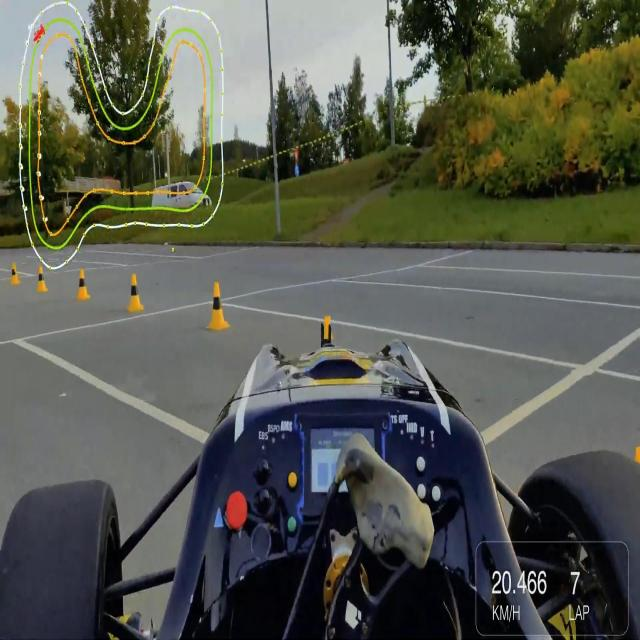yellow_cone: (207, 281, 230, 330), (126, 273, 144, 312), (77, 268, 90, 300), (37, 265, 48, 291), (10, 261, 20, 285)
